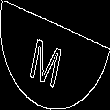M_N: (36, 24, 74, 86)
